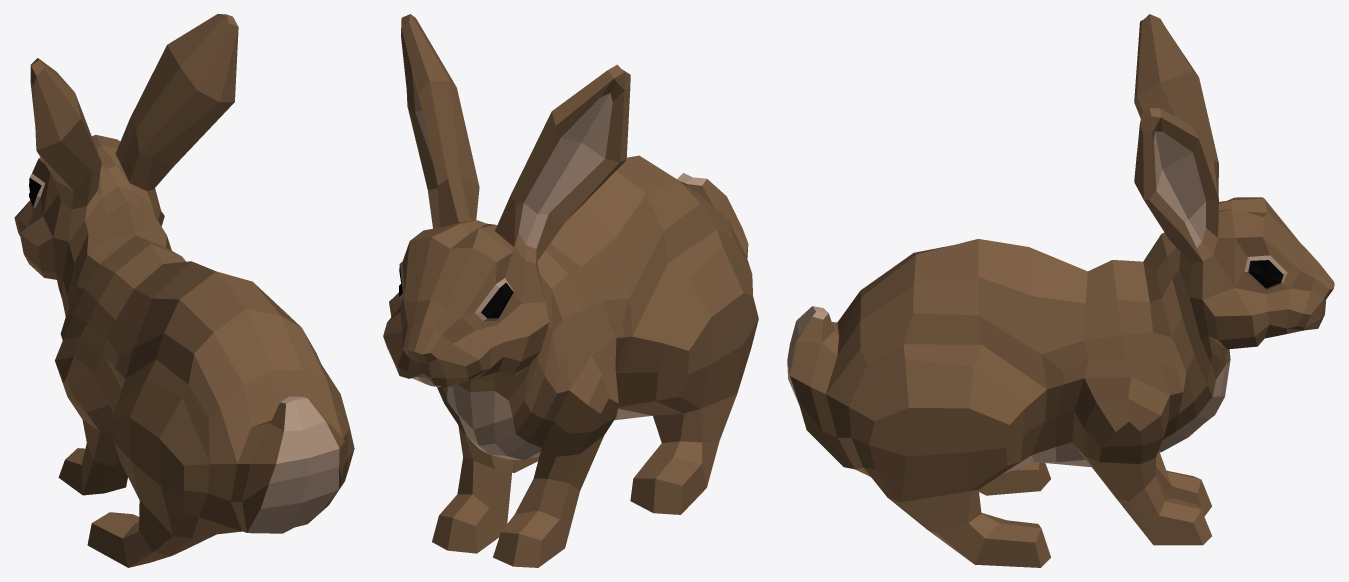
3 renders of one model, left to right at view 1: azimuth 30°, elevation 25°; view 2: azimuth 150°, elevation 25°; view 3: azimuth 270°, elevation 25°, orthographic. The views are drawn at different scales.
Parts seen in each view (by area): view 1: rabbit; view 2: rabbit; view 3: rabbit.
Boxes of the visible parts, <box> form: rabbit: <box>14,14,354,567</box>; rabbit: <box>383,14,758,567</box>; rabbit: <box>787,14,1334,567</box>.
Size of the model in its own units: 106 by 238 by 221.
